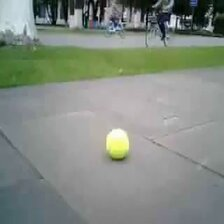tennis: (105, 128, 129, 160)
